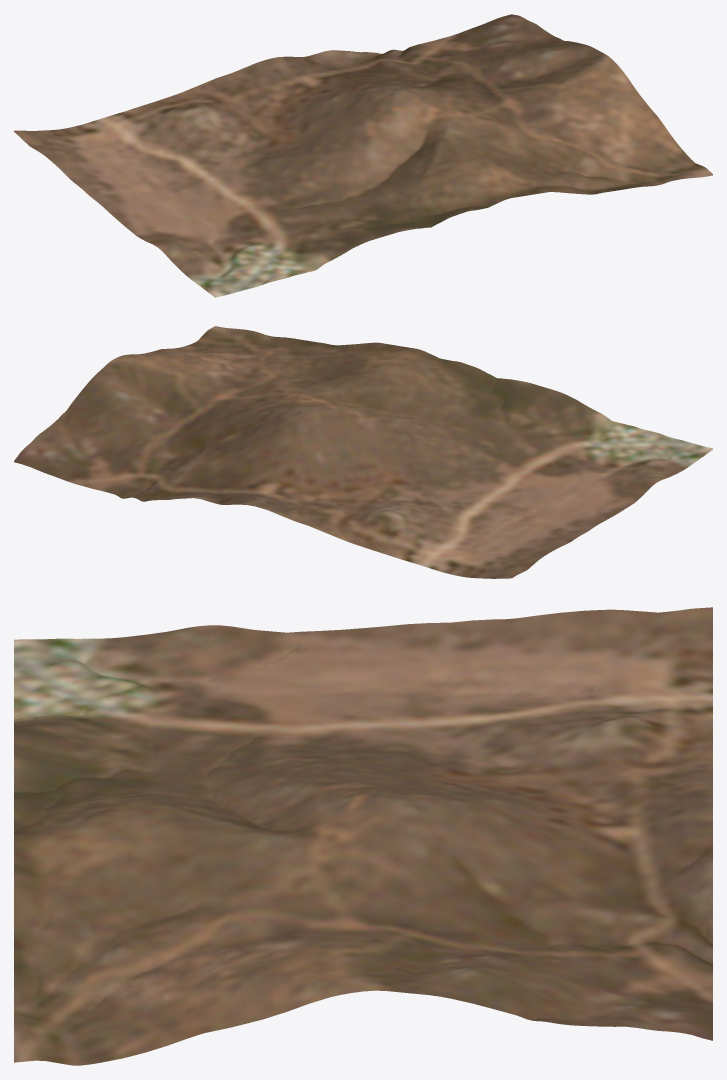
Rendered from terrain_r0_c5.glb.
3 renders of one model, top to bottom at view 1: azimuth 30°, elevation 25°; view 2: azimuth 150°, elevation 25°; view 3: azimuth 270°, elevation 25°, orthographic. The views are drawn at different scales.
Visible parts, largest first — view 1: terrain_r0_c5_lod0; view 2: terrain_r0_c5_lod0; view 3: terrain_r0_c5_lod0.
Part boxes in pixels (bbox=[...]): terrain_r0_c5_lod0: bbox=[14, 14, 712, 297]; terrain_r0_c5_lod0: bbox=[14, 326, 712, 578]; terrain_r0_c5_lod0: bbox=[14, 607, 712, 1065].
Size of the model in its own units: 1125 by 112 by 787.
Materials: 1 (1 with a texture image).
